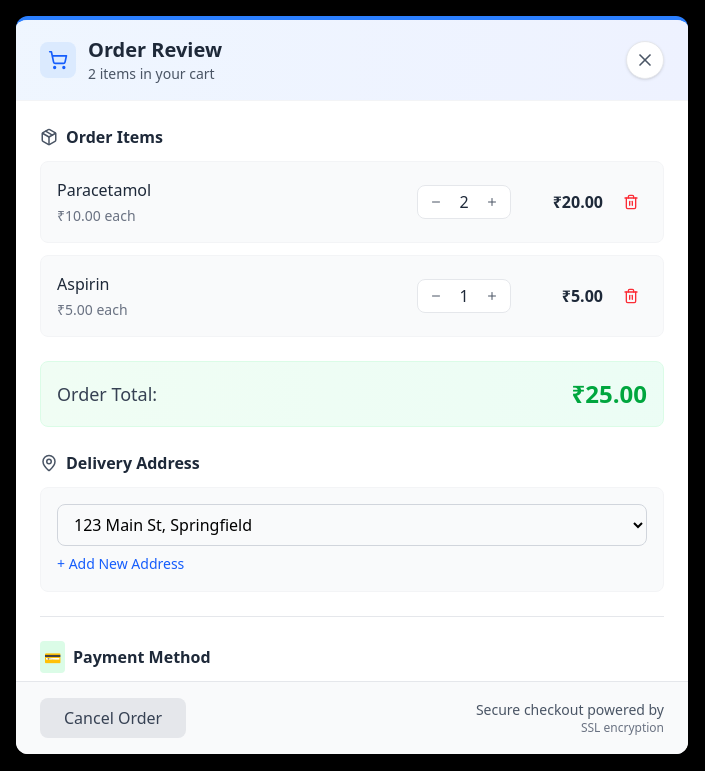
Test: CheckoutModal › allows adding a new address
Note: click add new address
Click the button "+ Add New Address".
click(121, 564)  # box [57,554,184,574]
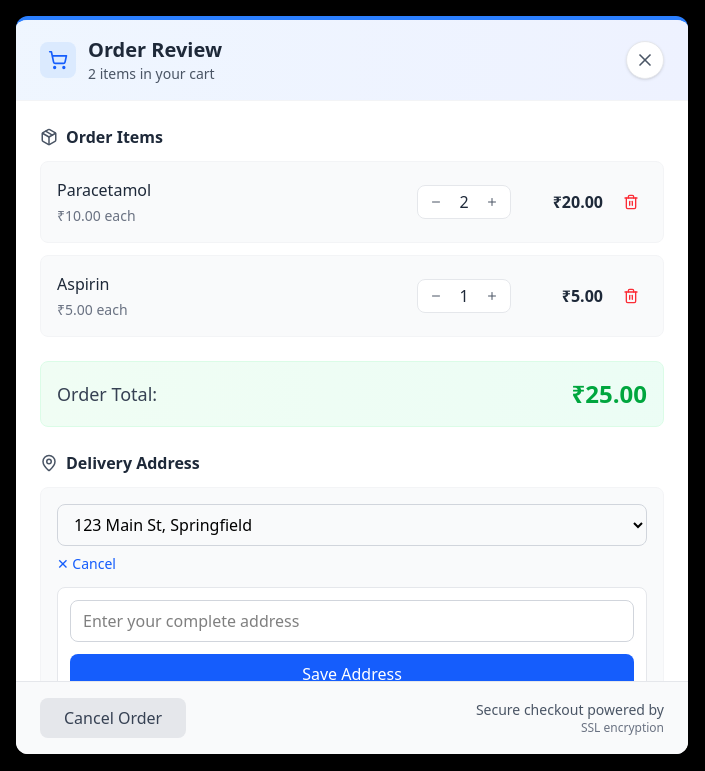
Type "789 Oak St" into the field with placeholder "Enter your complete address".
click(352, 621); type("789 Oak St")  # box [70,600,634,642]
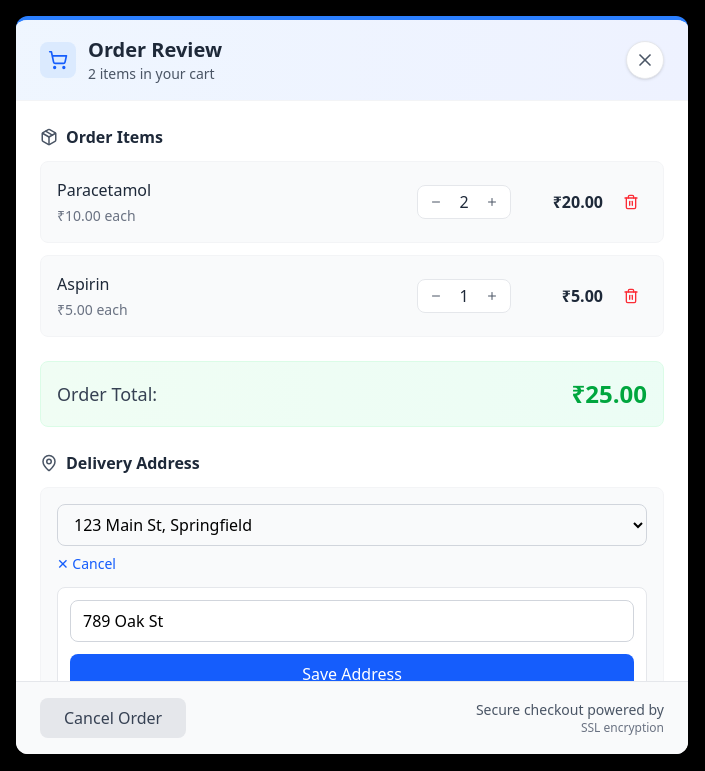
Click the button "Save Address".
click(352, 674)  # box [70,654,634,694]
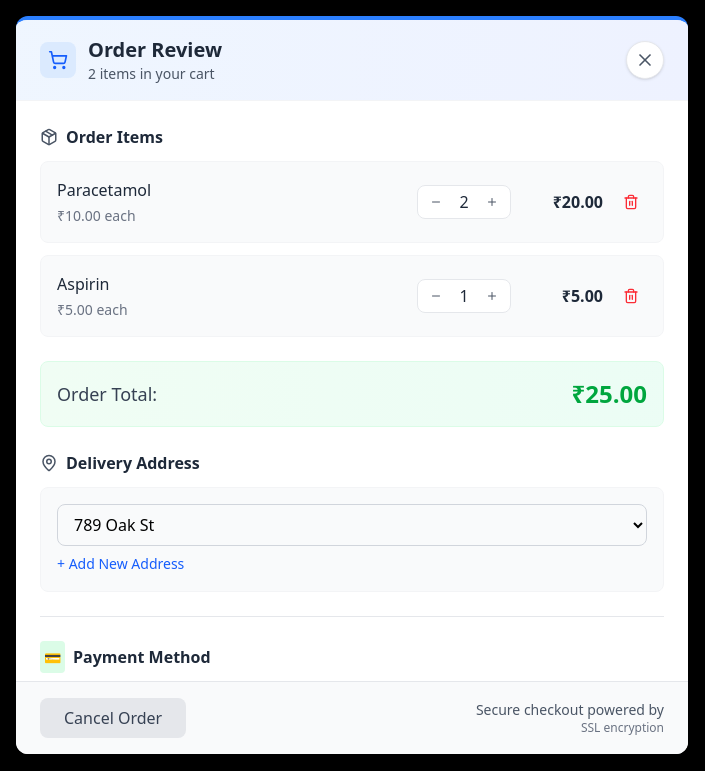
Expected: the dropdown showing "789 oak st" is shown, [57,504,647,546]
